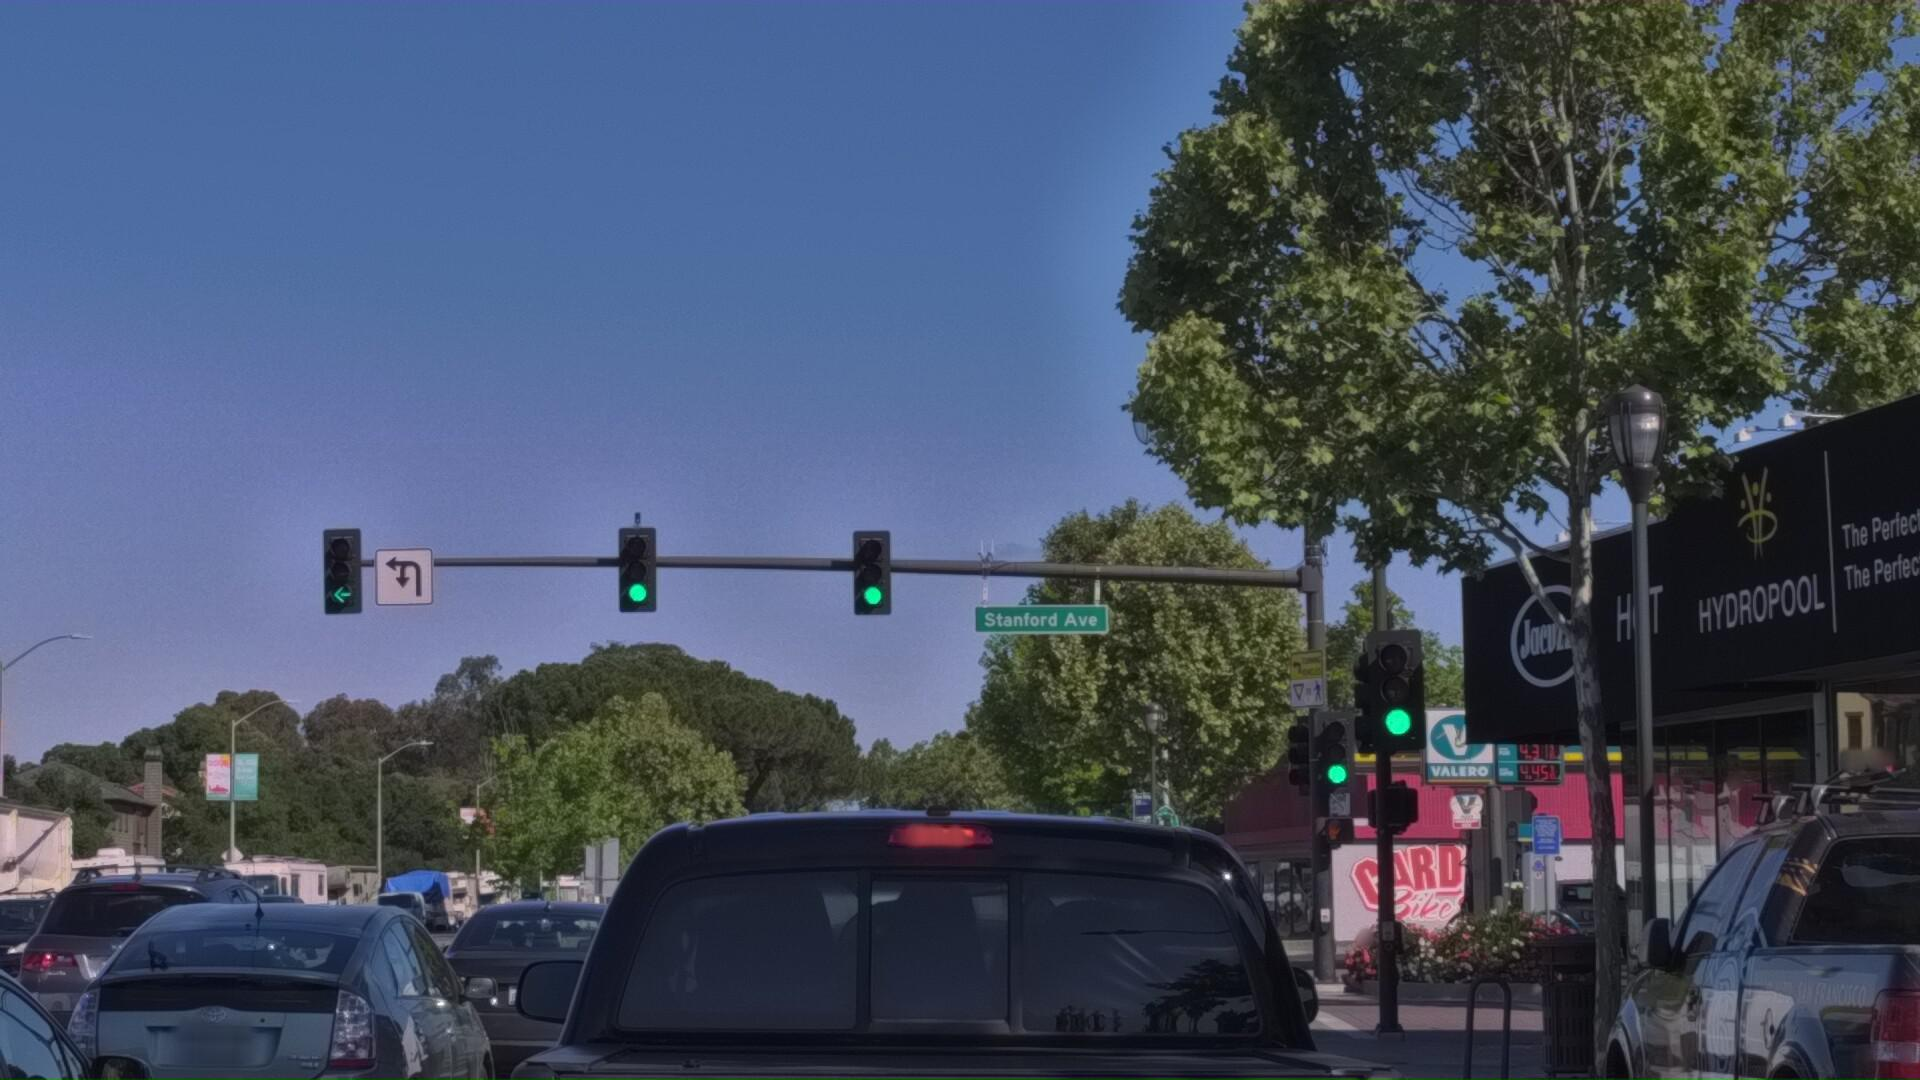car: (375, 782, 1494, 1080), (1534, 733, 1920, 1080), (7, 963, 521, 1080), (770, 906, 1042, 1080), (795, 969, 1195, 1080), (0, 948, 316, 1080), (0, 926, 266, 1080), (419, 985, 683, 1080), (0, 955, 117, 1077), (717, 1004, 815, 1080), (0, 968, 1, 1080)
truck: (0, 840, 100, 1080)
